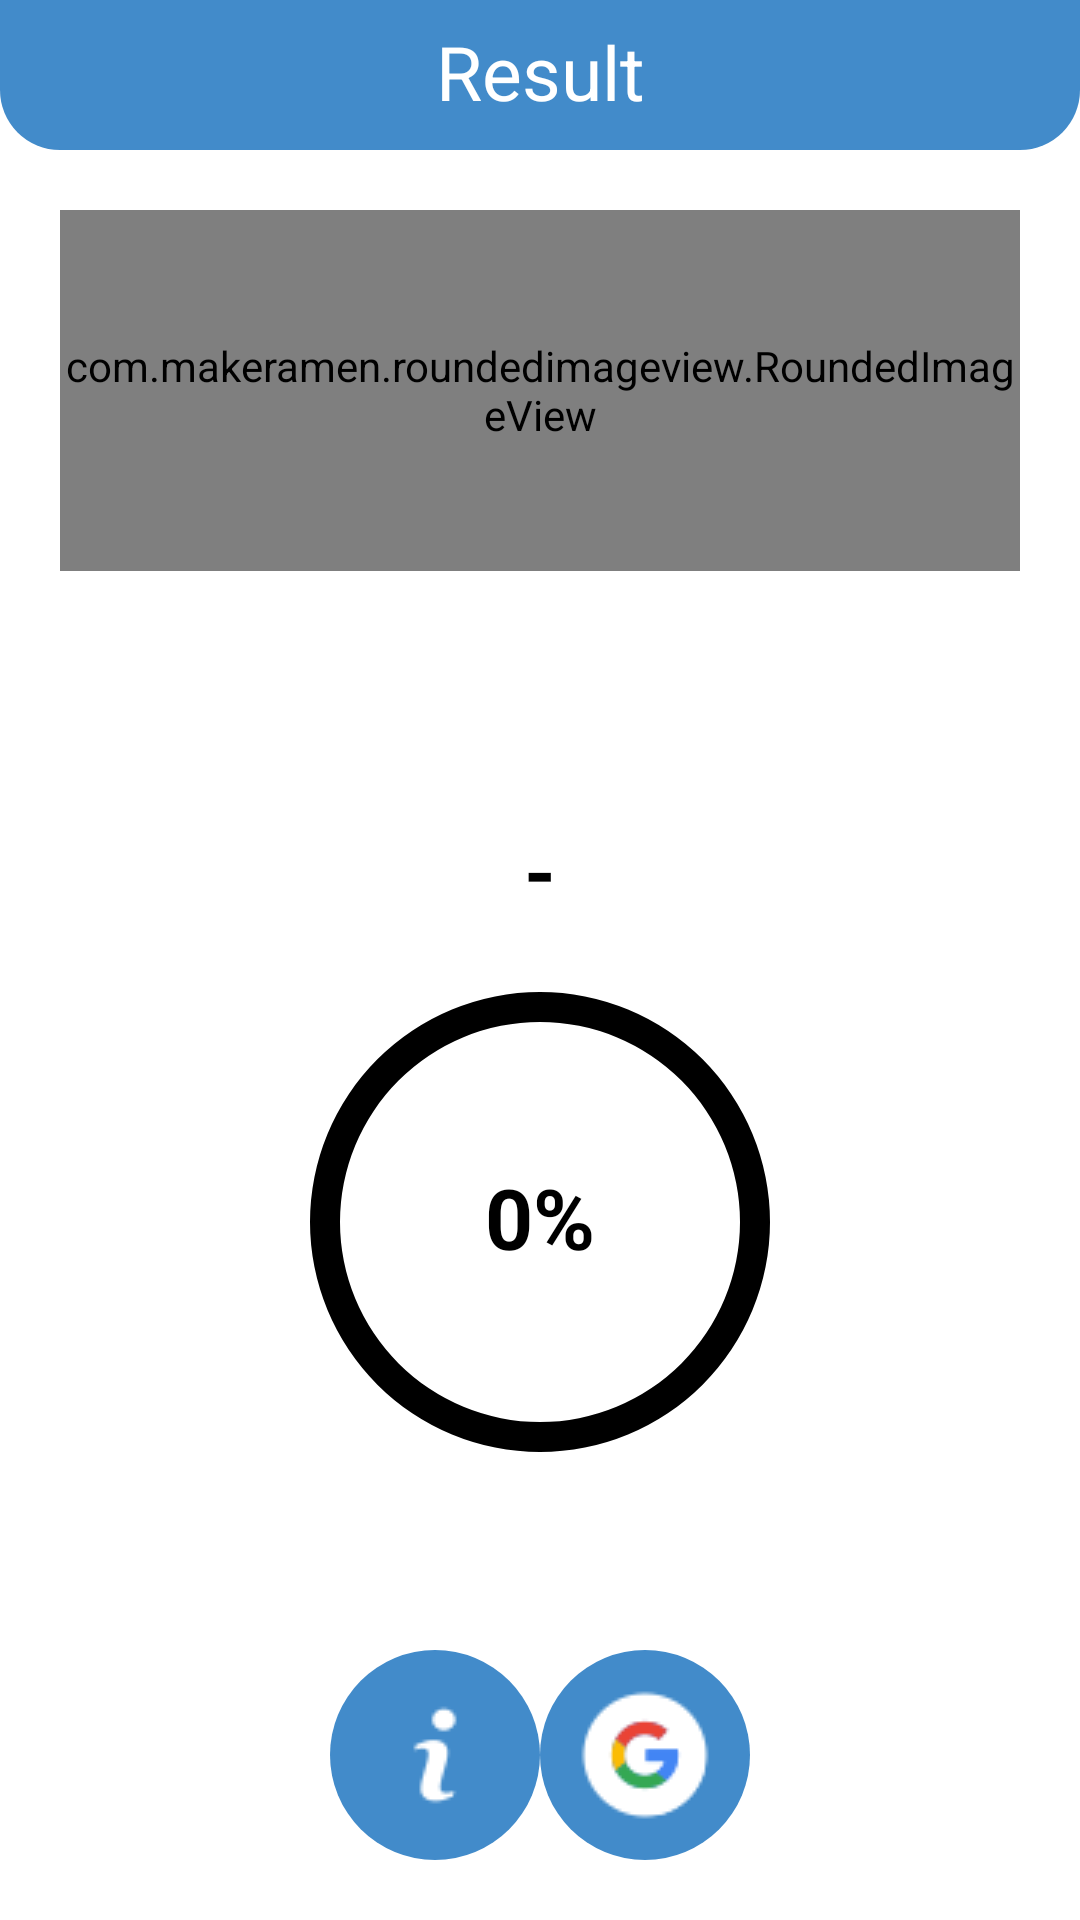

Where to tap for icons on this 1080w x 1920h app screen, as point (x, y):
info: point (435, 1755)
